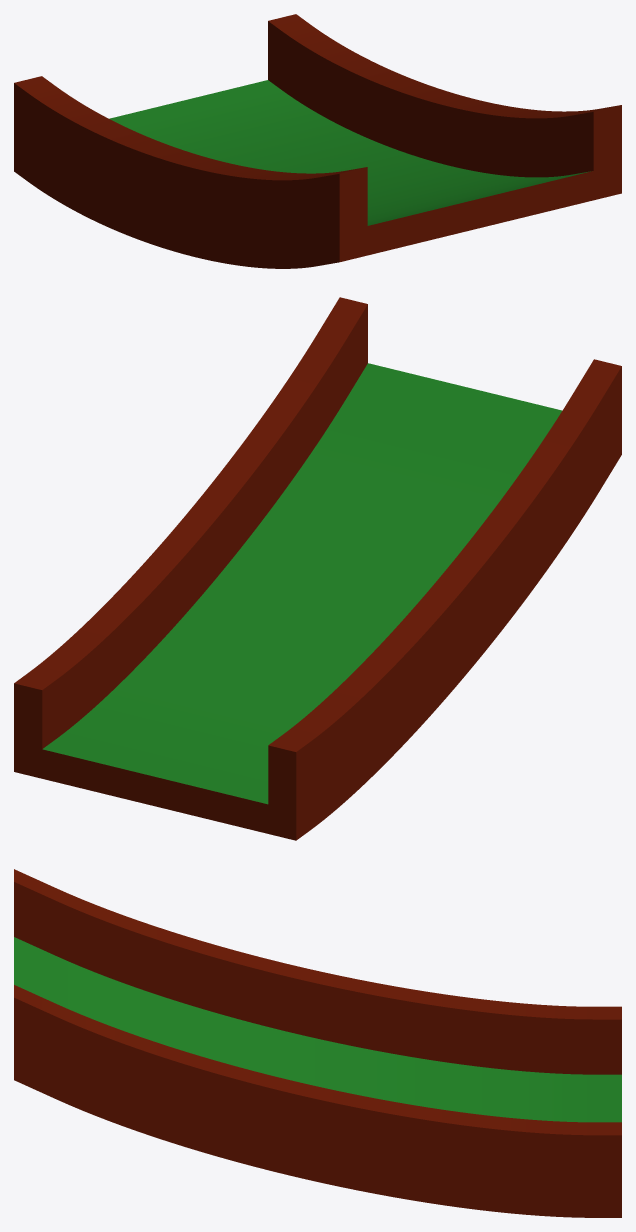
The model's file is RampTransitionUp.obj.
The picture shows the model from 3 angles, top to bottom: view 1: azimuth 30°, elevation 25°; view 2: azimuth 150°, elevation 25°; view 3: azimuth 270°, elevation 25°; orthographic projection. The views are drawn at different scales.
Parts seen in each view (by area): view 1: RampTransitionUp; view 2: RampTransitionUp; view 3: RampTransitionUp.
Part boxes in pixels (left/top/right/bottom): RampTransitionUp: left=14, top=14, right=621, bottom=268; RampTransitionUp: left=14, top=297, right=621, bottom=840; RampTransitionUp: left=14, top=869, right=621, bottom=1217.
Size of the model in its own units: 2 by 1.6 by 4.
